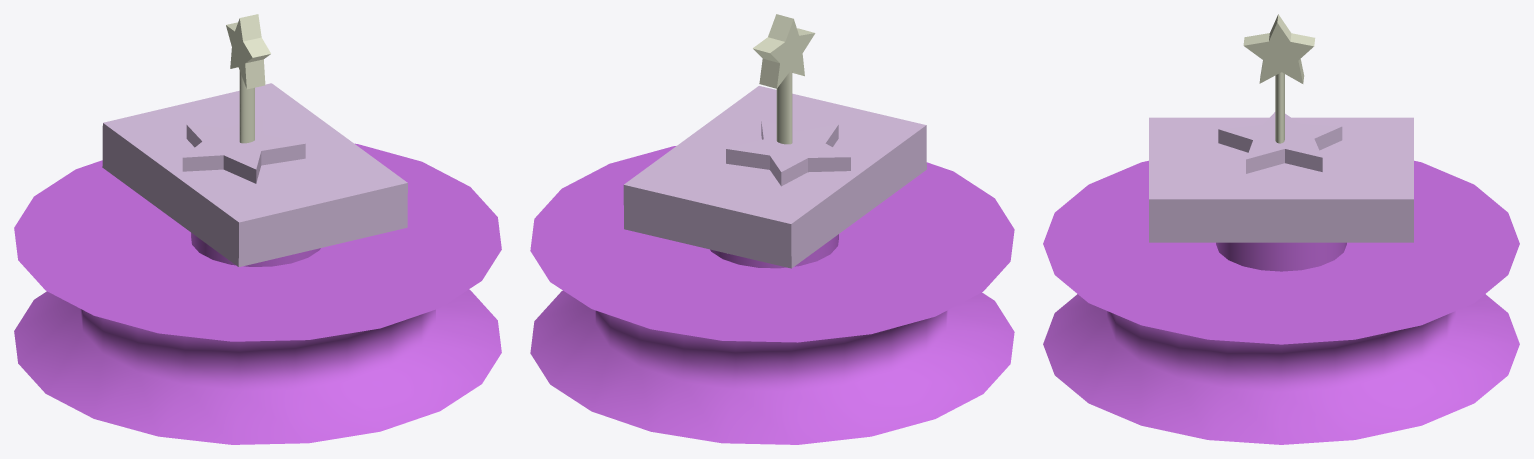
The model's file is CL_obg.fbx.
3 views of the same model, side by side, from view 1: azimuth 30°, elevation 25°; view 2: azimuth 150°, elevation 25°; view 3: azimuth 270°, elevation 25° (orthographic). The views are drawn at different scales.
Parts seen in each view (by area): view 1: pasted__pCylinder4; view 2: pasted__pCylinder4; view 3: pasted__pCylinder4.
Part boxes in pixels (x1,y1,x2,y2): pasted__pCylinder4: [14, 14, 501, 444]; pasted__pCylinder4: [530, 14, 1014, 444]; pasted__pCylinder4: [1043, 14, 1519, 444].
Bounding box in the file's own units: 8.61 × 6.39 × 8.61.
